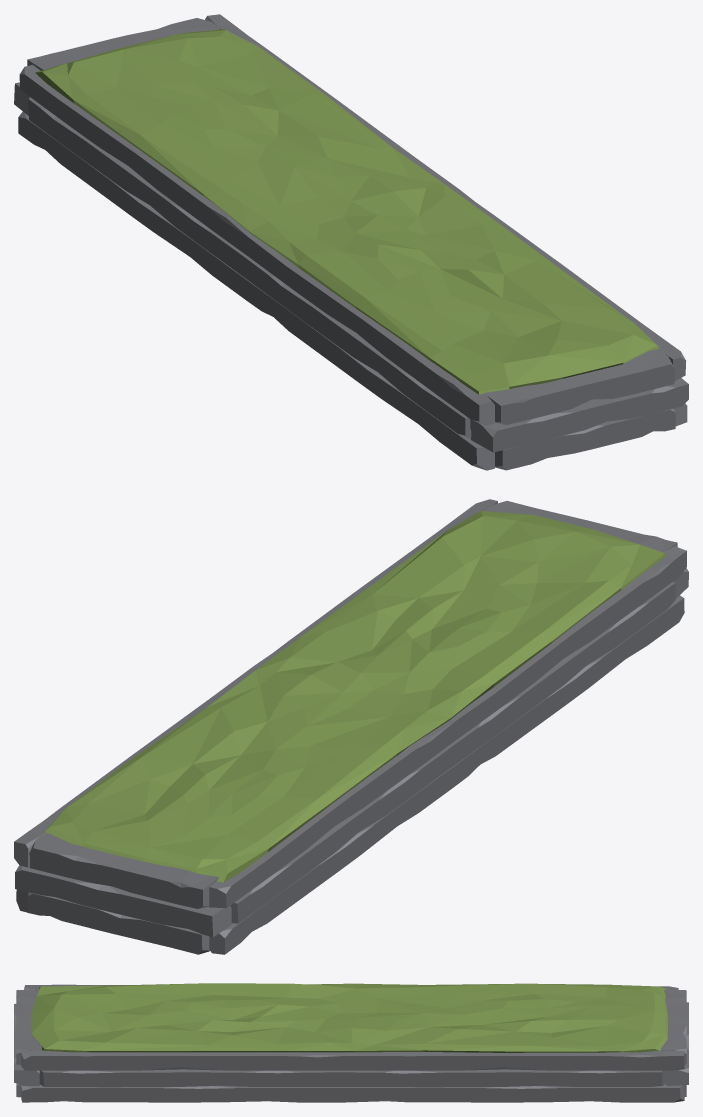
File: gardenbox_3.fbx
The picture shows the model from 3 angles, top to bottom: view 1: azimuth 30°, elevation 25°; view 2: azimuth 150°, elevation 25°; view 3: azimuth 270°, elevation 25°; orthographic projection. The views are drawn at different scales.
Visible parts, largest first — view 1: Gardenbox_03; view 2: Gardenbox_03; view 3: Gardenbox_03.
Boxes of the visible parts, left/top/right/bottom form: Gardenbox_03: left=14, top=14, right=688, bottom=470; Gardenbox_03: left=14, top=499, right=688, bottom=954; Gardenbox_03: left=14, top=983, right=688, bottom=1102.
Bounding box in the file's own units: 0.4036 × 0.1461 × 1.6.
Materials: 1 (1 with a texture image).
